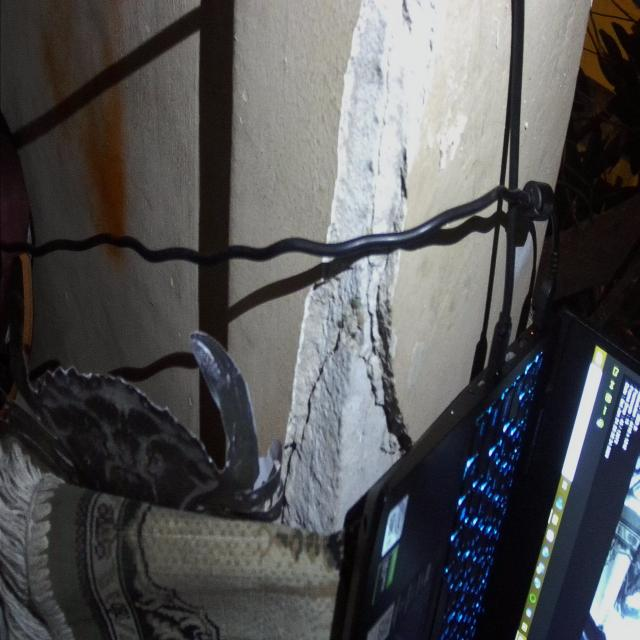European_Green_Crab: (4, 303, 289, 532)
